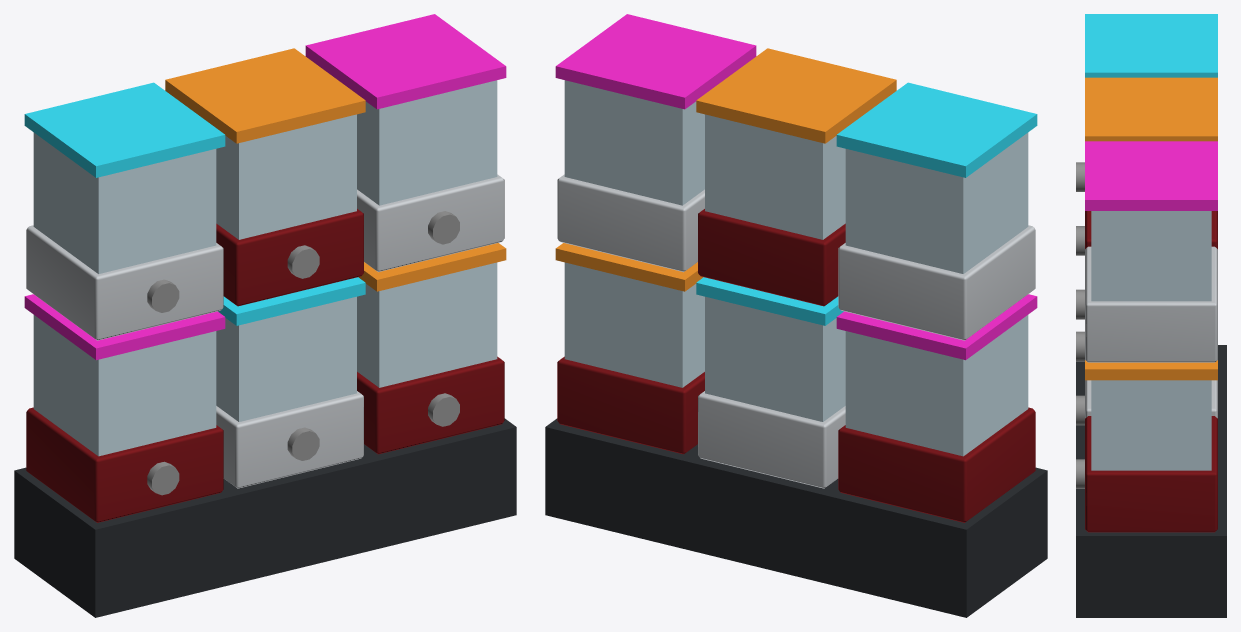
The model's file is St_CapsuleToys.fbx.
The picture shows the model from 3 angles, left to right: view 1: azimuth 30°, elevation 25°; view 2: azimuth 150°, elevation 25°; view 3: azimuth 270°, elevation 25°; orthographic projection. The views are drawn at different scales.
Parts seen in each view (by area): view 1: St_CapsuleToys_LOD0; view 2: St_CapsuleToys_LOD0; view 3: St_CapsuleToys_LOD0.
Boxes of the visible parts, x1,y1,x2,y2 form: St_CapsuleToys_LOD0: (14, 14, 516, 617); St_CapsuleToys_LOD0: (545, 14, 1047, 617); St_CapsuleToys_LOD0: (1076, 14, 1226, 617).
Size of what is drawn, in the model's own units: 1.5 by 1.52 by 0.5.
